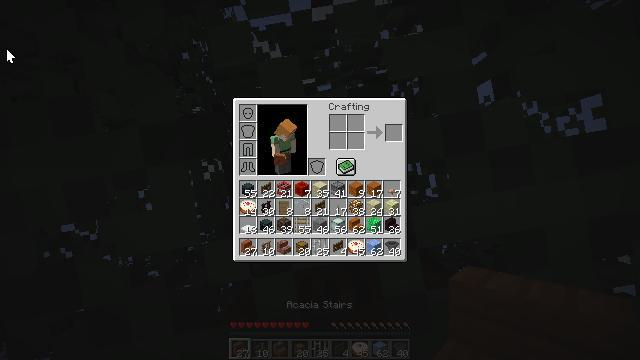cursor: (48, 6, 64, 16)
